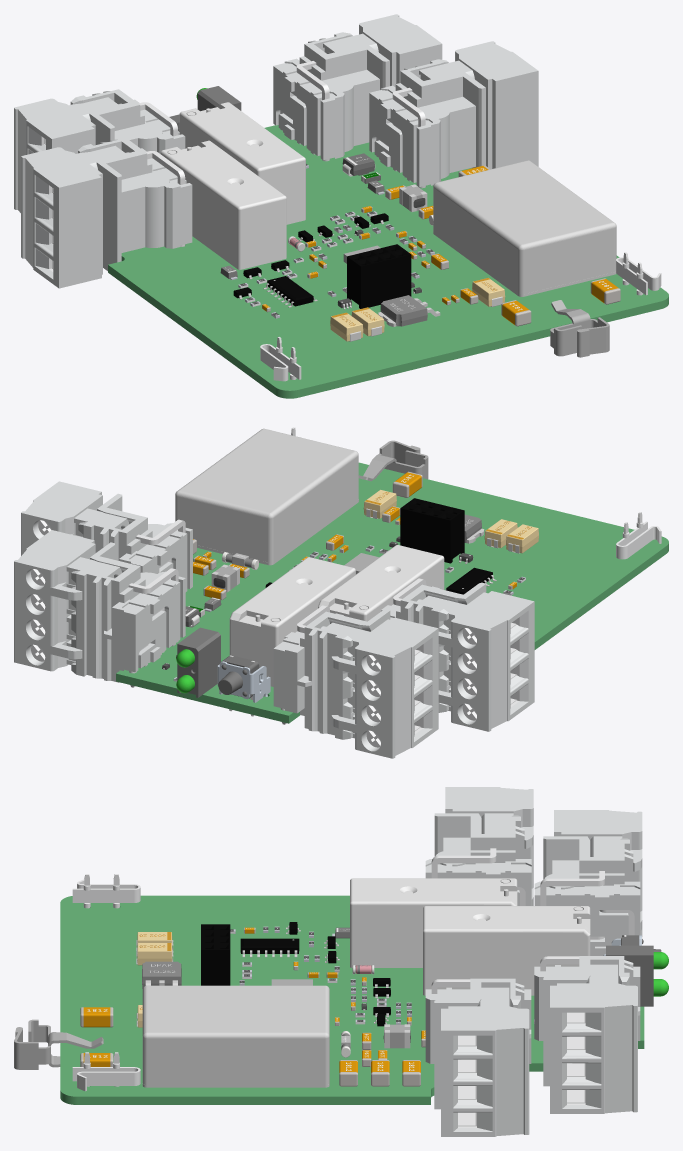
Rendered from TPR.glb.
The picture shows the model from 3 angles, top to bottom: view 1: azimuth 30°, elevation 25°; view 2: azimuth 150°, elevation 25°; view 3: azimuth 270°, elevation 25°; orthographic projection. The views are drawn at different scales.
Parts seen in each view (by area): view 1: Node7, Node19, Node6, Node18, Node31, Node5, Node29, Node14, Node32, Node15, Node9, Node39 (+4 smaller); view 2: Node7, Node19, Node6, Node18, Node5, Node31, Node39, Node29, Node32, Node14, Node28, Node15 (+3 smaller); view 3: Node7, Node19, Node18, Node6, Node5, Node31, Node29, Node14, Node15, Node39, Node32, Node9 (+1 smaller).
Part boxes in pixels (box(x1,y1,x2,y2)): Node7: box(14, 14, 538, 288); Node19: box(108, 125, 668, 398); Node6: box(239, 160, 616, 326); Node18: box(160, 102, 305, 269); Node31: box(233, 213, 411, 308); Node5: box(41, 61, 661, 381); Node29: box(343, 245, 609, 357); Node14: box(262, 166, 618, 324); Node32: box(330, 278, 505, 341); Node15: box(262, 165, 620, 326); Node9: box(380, 295, 427, 326); Node39: box(197, 86, 241, 111); Node7: box(14, 481, 534, 758); Node19: box(116, 462, 668, 723); Node6: box(175, 428, 496, 590); Node18: box(229, 545, 444, 686); Node5: box(31, 427, 661, 747); Node31: box(265, 498, 492, 594); Node39: box(177, 627, 220, 697); Node29: box(344, 440, 428, 574); Node32: box(363, 489, 538, 553); Node14: box(193, 472, 516, 599); Node28: box(217, 661, 270, 702); Node15: box(193, 471, 517, 600); Node7: box(425, 787, 642, 1136); Node19: box(60, 895, 644, 1104); Node18: box(350, 878, 590, 995); Node6: box(142, 925, 388, 1087); Node5: box(72, 848, 634, 1127); Node31: box(201, 922, 390, 1026); Node29: box(14, 979, 312, 1069); Node14: box(83, 927, 425, 1072); Node15: box(80, 927, 425, 1086); Node39: box(606, 945, 653, 1006); Node32: box(137, 932, 172, 1027); Node9: box(142, 961, 181, 988).
Bounding box in the file's own units: 98.84 × 20.97 × 111.
